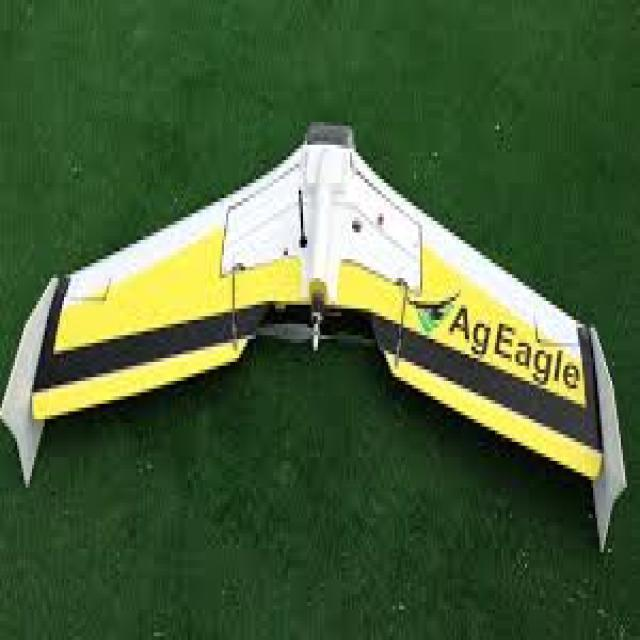iha: (2, 115, 632, 559)
